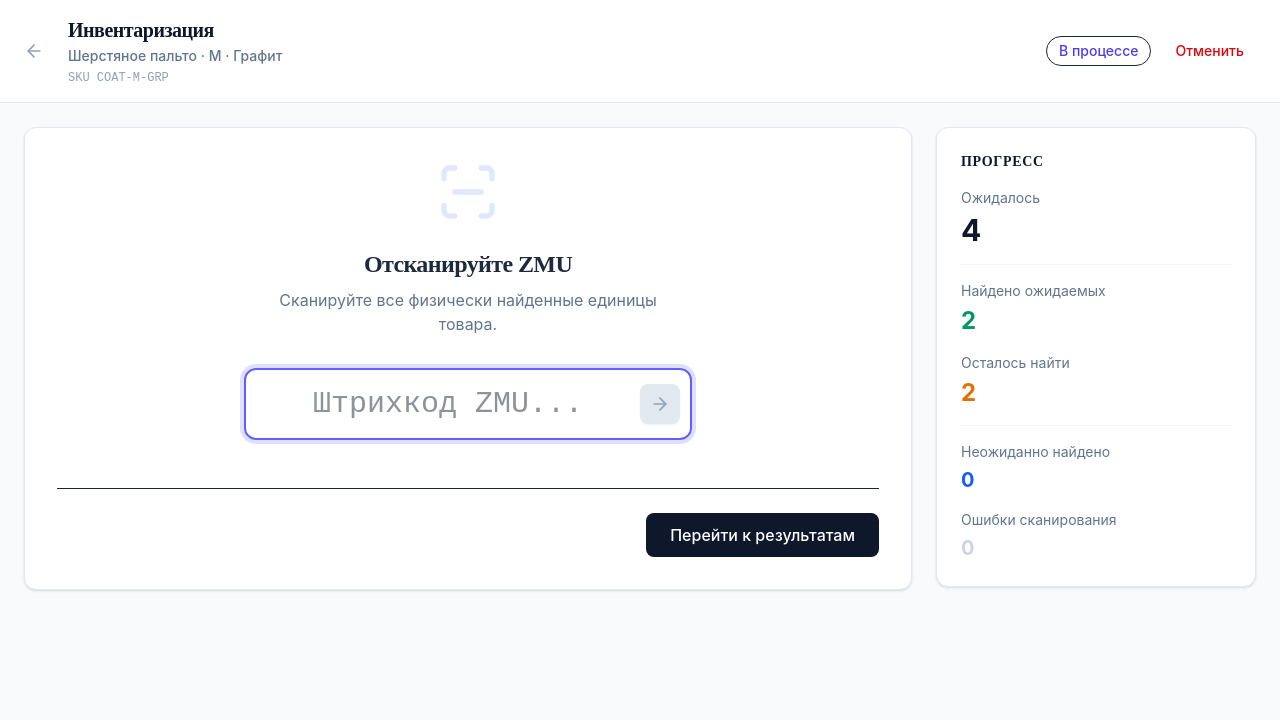
Scenario: AdminInventoryReconciliation › renders humanized unexpected-found status when scanned
Type "ZMU-SHIPPED999" into the field with placeholder "Штрихкод ZMU..." at (468, 404), box [244, 368, 692, 440]
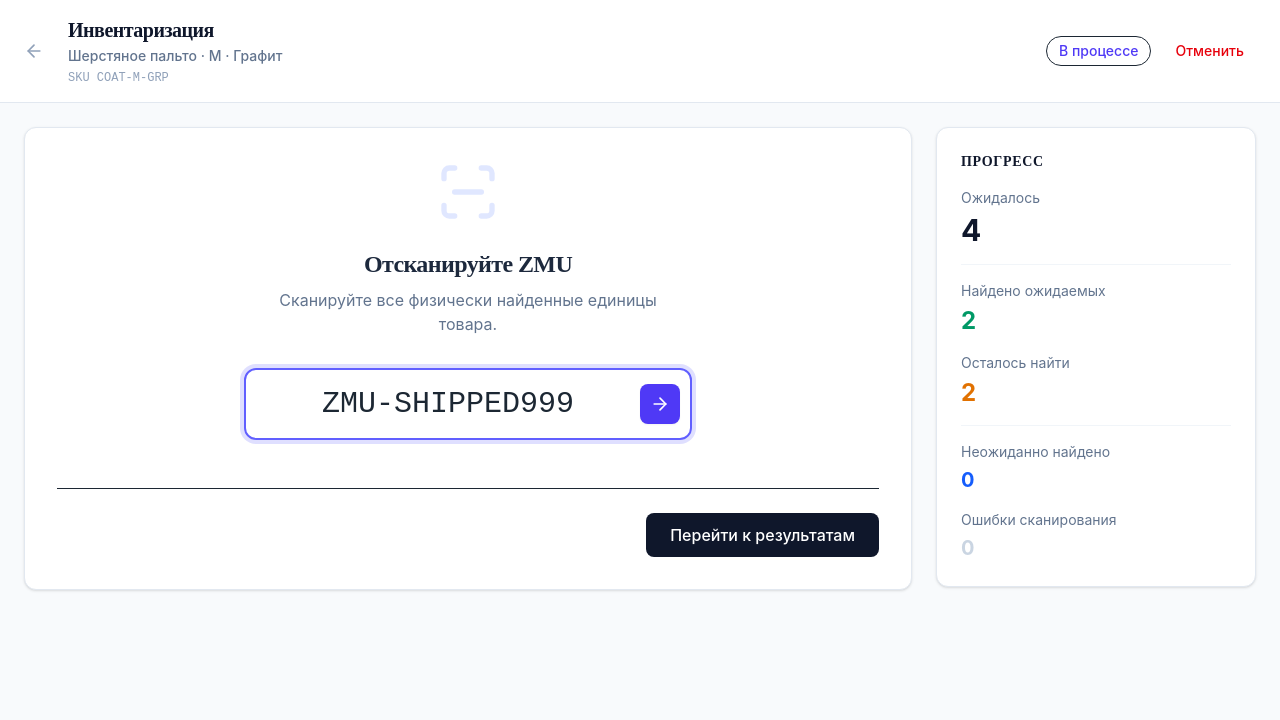
Submit the form from the field with placeholder "Штрихкод ZMU...", box [244, 368, 692, 440]
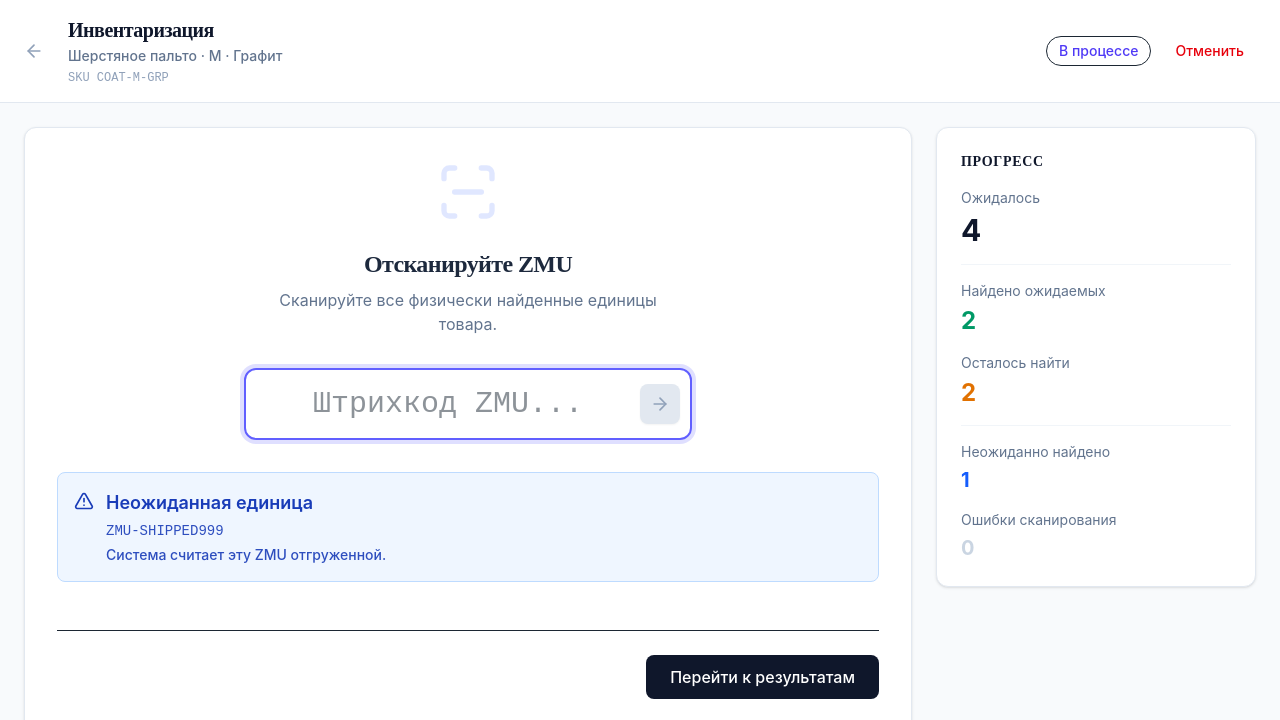
Check: the text "Неожиданная единица" is shown, box [106, 492, 313, 513]
Check: the text "Система считает эту ZMU отгруженной." is shown, box [106, 545, 386, 565]
